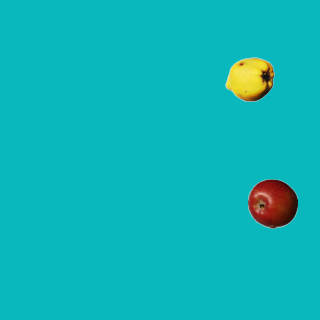Apple Braeburn: (247, 178, 297, 228)
Quince: (224, 54, 274, 104)
